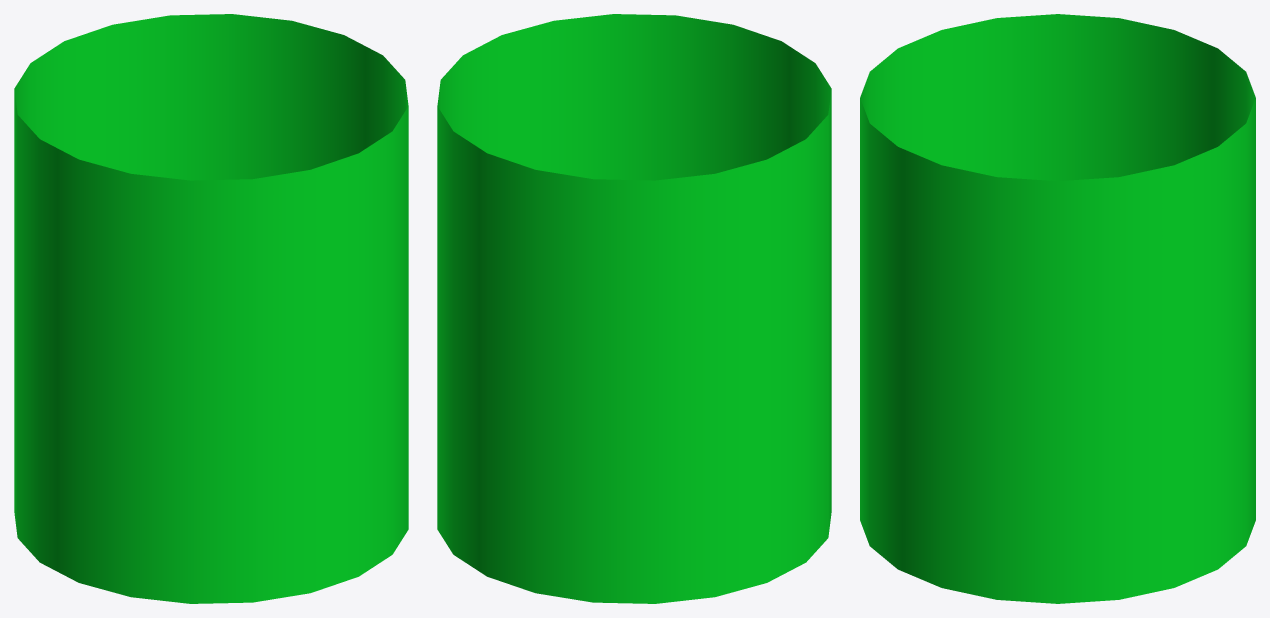
File: LightCeiling01_5.FBX
3 renders of one model, left to right at view 1: azimuth 30°, elevation 25°; view 2: azimuth 150°, elevation 25°; view 3: azimuth 270°, elevation 25°, orthographic.
Visible parts, largest first — view 1: LightCeiling01_5; view 2: LightCeiling01_5; view 3: LightCeiling01_5.
Part boxes in pixels (x1=…): LightCeiling01_5: x1=14, y1=14, x2=408, y2=603; LightCeiling01_5: x1=437, y1=14, x2=831, y2=603; LightCeiling01_5: x1=860, y1=14, x2=1255, y2=603.
Size of the model in its own units: 16.97 by 20 by 16.97.
